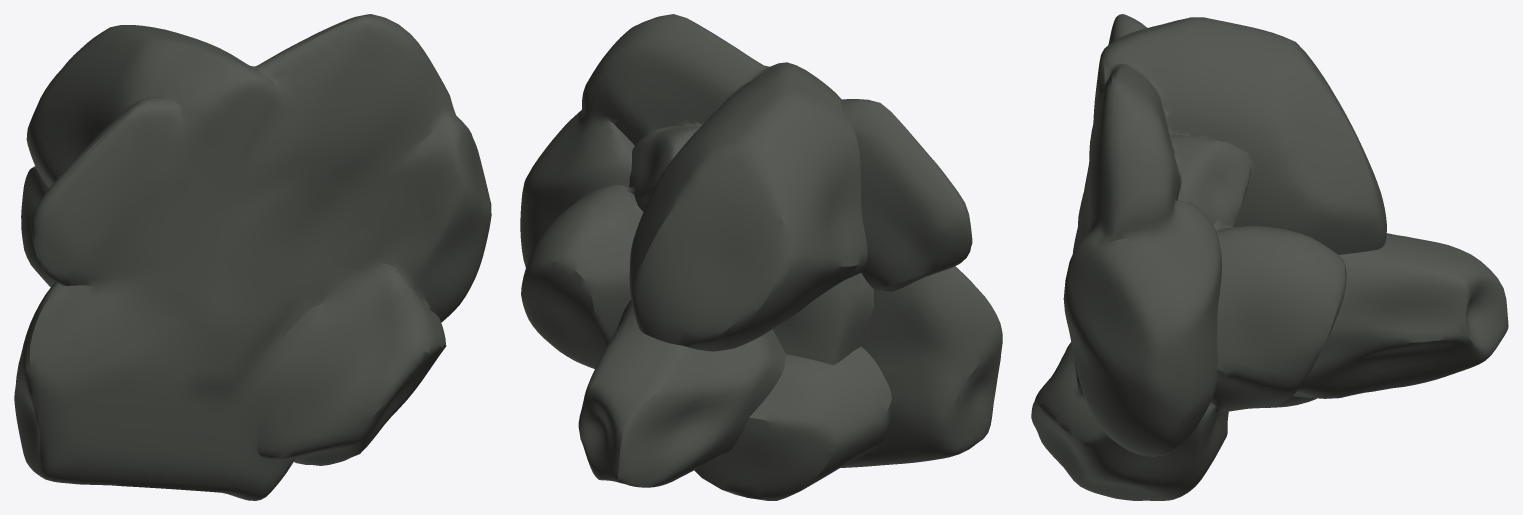
Rendered from cliff1.obj.
3 renders of one model, left to right at view 1: azimuth 30°, elevation 25°; view 2: azimuth 150°, elevation 25°; view 3: azimuth 270°, elevation 25°, orthographic. The views are drawn at different scales.
Parts seen in each view (by area): view 1: Environment_Cliff2_mesh.004; view 2: Environment_Cliff2_mesh.004; view 3: Environment_Cliff2_mesh.004.
Part boxes in pixels (x1=…): Environment_Cliff2_mesh.004: x1=14, y1=14, x2=491, y2=500; Environment_Cliff2_mesh.004: x1=520, y1=14, x2=1002, y2=500; Environment_Cliff2_mesh.004: x1=1031, y1=14, x2=1508, y2=500.
Size of the model in its own units: 8 by 7.11 by 6.91.
1 material, 1 textured.
